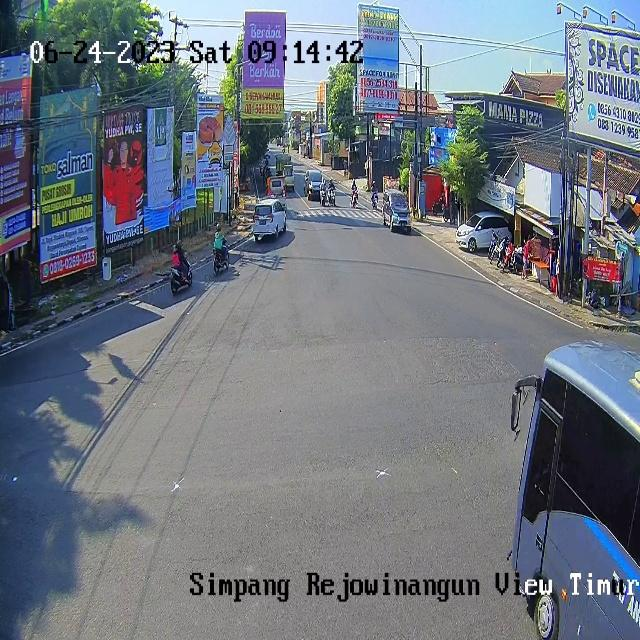bus: (170, 256, 192, 294), (214, 237, 229, 274), (319, 186, 326, 205), (352, 189, 358, 208), (372, 190, 378, 209), (330, 187, 336, 206)
car: (513, 340, 640, 640)
motorcycle: (454, 212, 511, 253), (253, 199, 286, 241), (383, 189, 411, 232), (306, 170, 324, 198), (268, 176, 286, 198), (282, 164, 296, 188)
